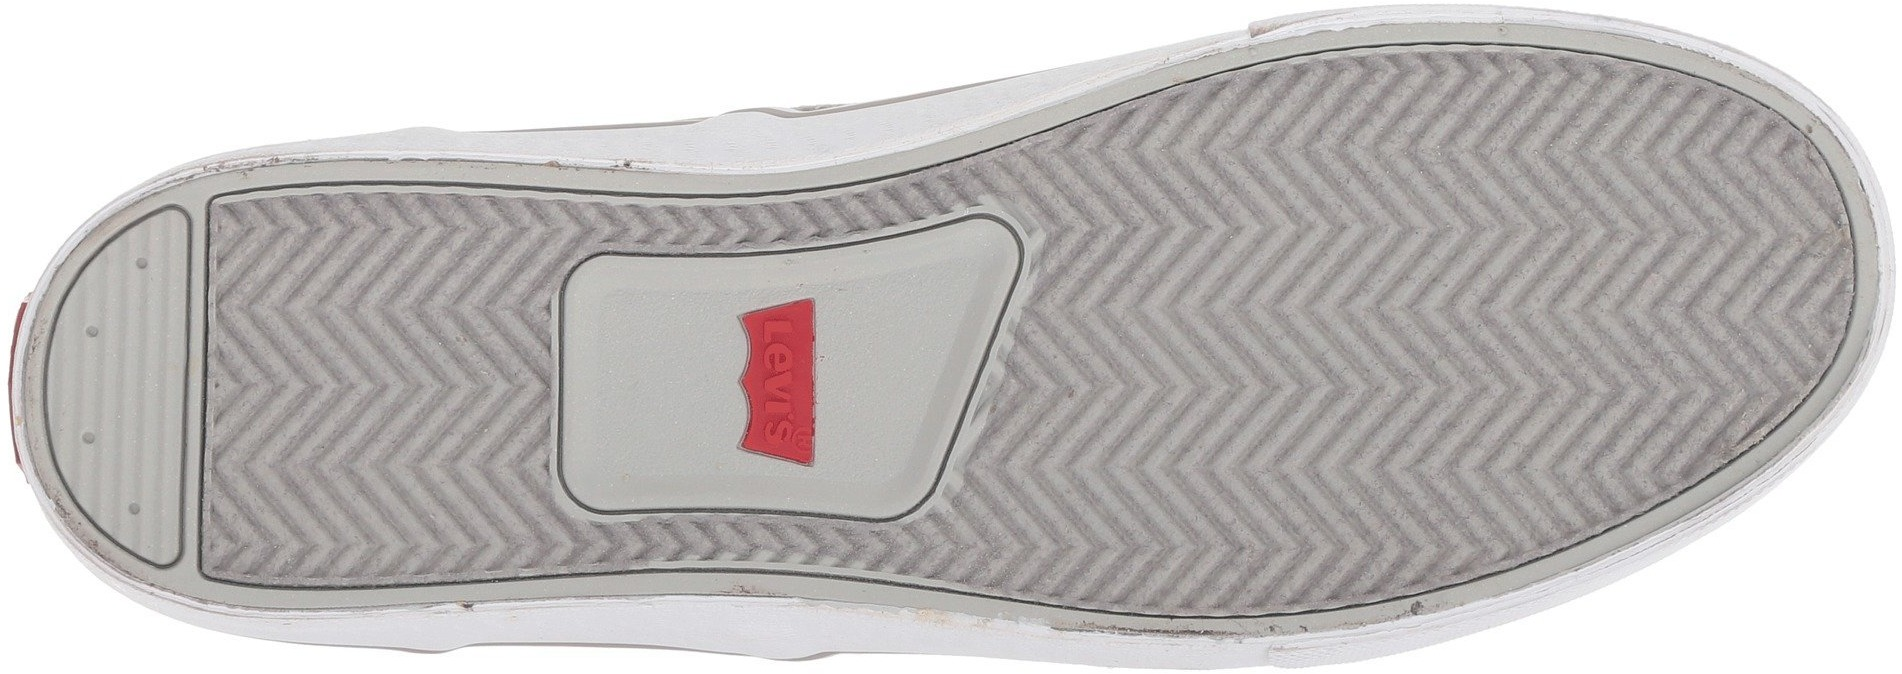chevron: (220, 221, 549, 550), (1292, 78, 1589, 358), (1598, 152, 1824, 400), (1067, 165, 1295, 390), (1027, 388, 1249, 596), (1302, 362, 1514, 566), (1519, 405, 1647, 512)
circle: (55, 299, 193, 455)
line: (55, 299, 193, 455)
other: (568, 305, 712, 456), (842, 264, 962, 393)
text: (717, 309, 835, 449)
